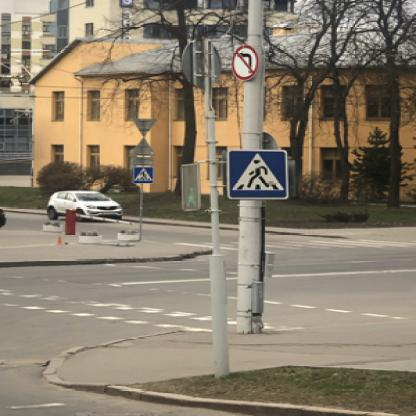crosswalk: (225, 148, 287, 198), (132, 165, 152, 182)
trafficlight: (176, 160, 200, 210)
